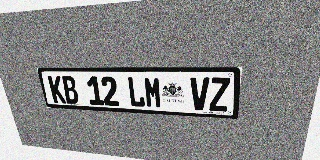1: (85, 76, 104, 105)
2: (100, 76, 119, 106)
B: (61, 76, 80, 104)
K: (47, 76, 66, 103)
L: (127, 77, 145, 107)
M: (144, 77, 162, 108)
V: (190, 77, 209, 111)
Z: (209, 77, 230, 112)
